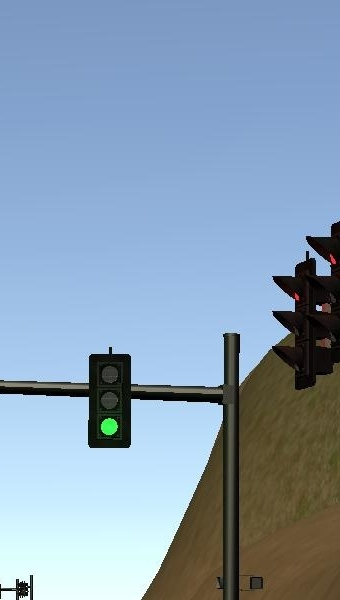Green: (87, 354, 130, 449)
